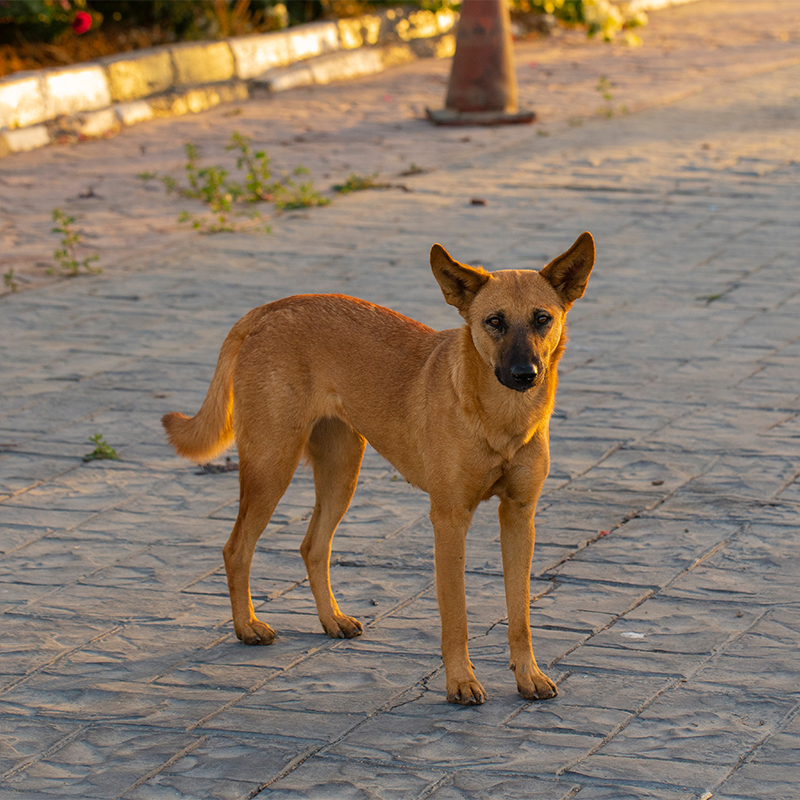Dog: (145, 224, 652, 738)
